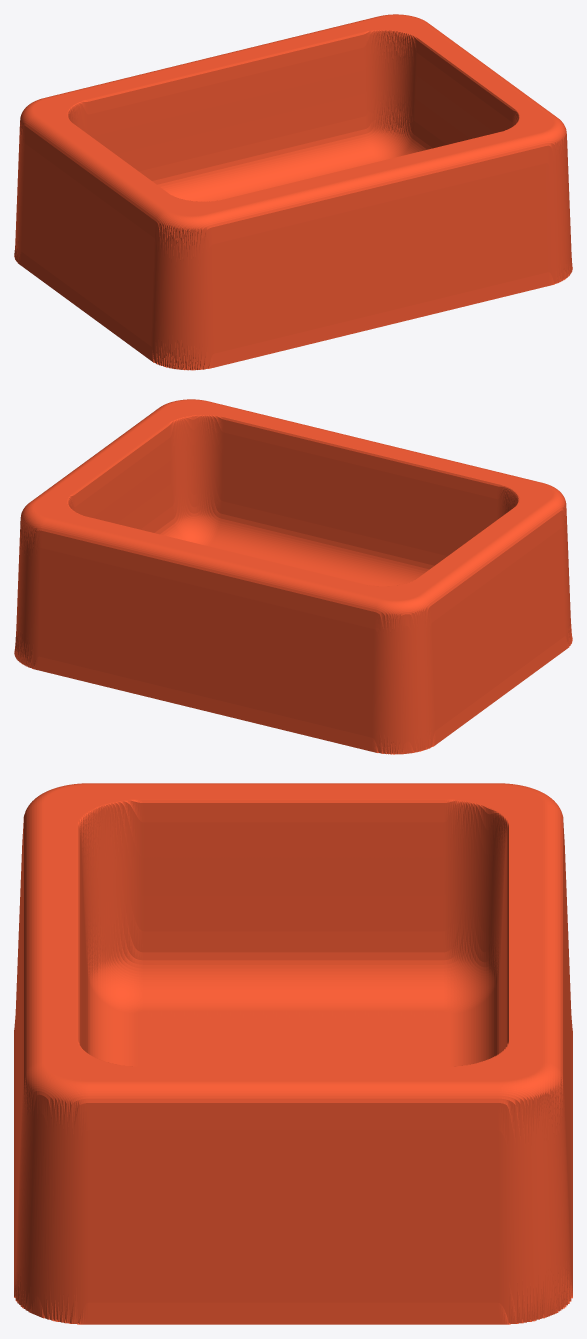
Rendered from mold.glb.
3 views of the same model, one above another, from view 1: azimuth 30°, elevation 25°; view 2: azimuth 150°, elevation 25°; view 3: azimuth 270°, elevation 25° (orthographic). The views are drawn at different scales.
Parts seen in each view (by area): view 1: geometry_0; view 2: geometry_0; view 3: geometry_0.
Part boxes in pixels (box(x1,y1,x2,y2)): geometry_0: box(14, 14, 572, 370); geometry_0: box(14, 399, 572, 754); geometry_0: box(14, 783, 572, 1324).
Size of the model in its own units: 0.0924 by 0.031 by 0.068.
